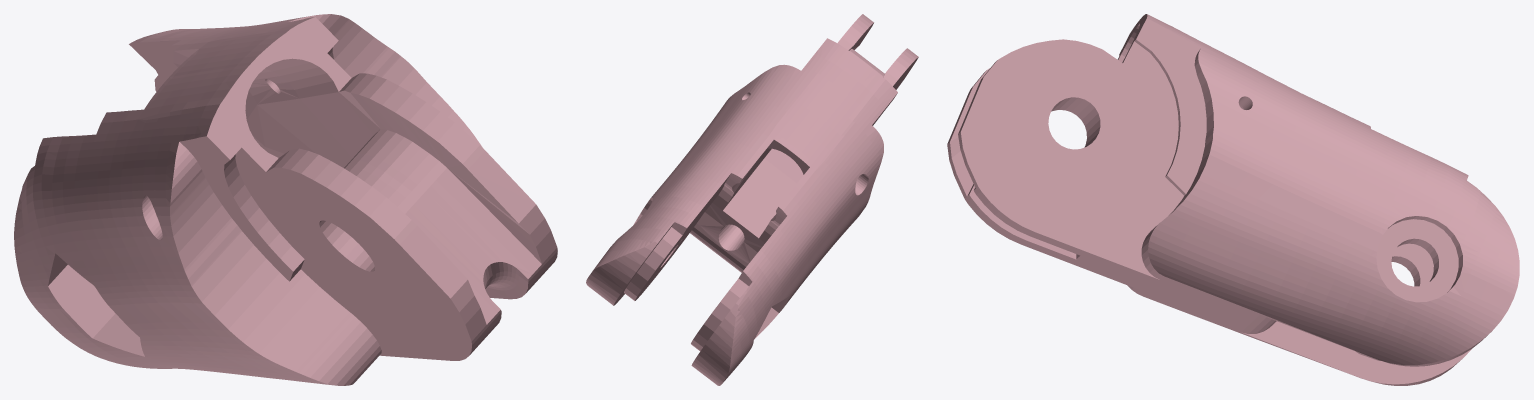
File: i02_rightHand_ringFingerMid_visual.obj
3 renders of one model, left to right at view 1: azimuth 30°, elevation 25°; view 2: azimuth 150°, elevation 25°; view 3: azimuth 270°, elevation 25°, orthographic. The views are drawn at different scales.
Visible parts, largest first — view 1: i02_rightHand_ringFingerMid_visual.001; view 2: i02_rightHand_ringFingerMid_visual.001; view 3: i02_rightHand_ringFingerMid_visual.001.
Part boxes in pixels (box(x1,y1,x2,y2)): i02_rightHand_ringFingerMid_visual.001: box(14, 14, 557, 385); i02_rightHand_ringFingerMid_visual.001: box(586, 14, 918, 385); i02_rightHand_ringFingerMid_visual.001: box(947, 14, 1519, 385).
Bounding box in the file's own units: 0.1927 × 0.2688 × 0.3907.
